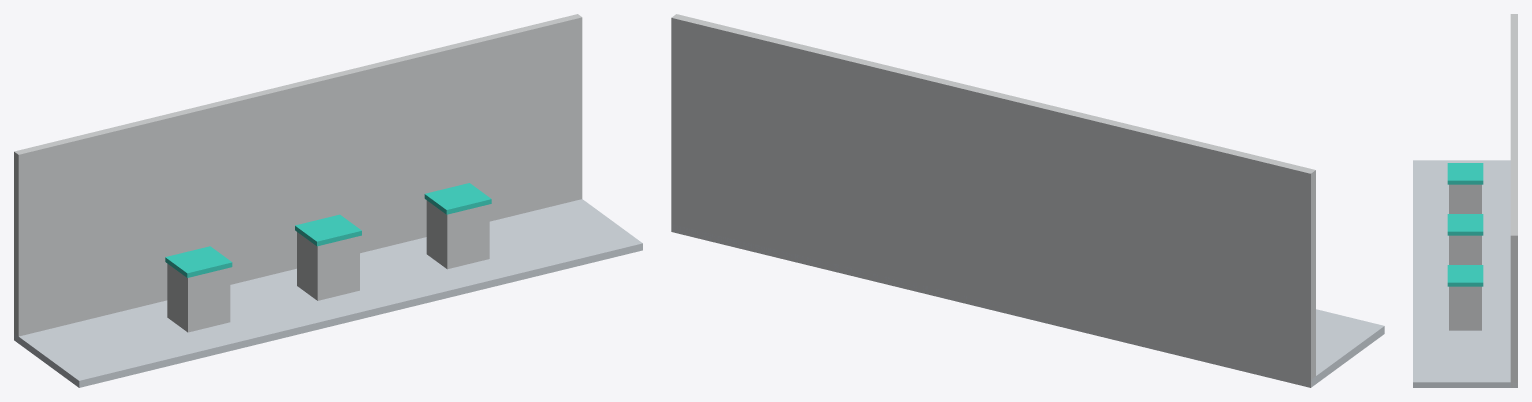
3 views of the same model, side by side, from view 1: azimuth 30°, elevation 25°; view 2: azimuth 150°, elevation 25°; view 3: azimuth 270°, elevation 25° (orthographic). The views are drawn at different scales.
Visible parts, largest first — view 1: Exhibition Booth Concept; view 2: Exhibition Booth Concept; view 3: Exhibition Booth Concept.
Part boxes in pixels (x1,y1,x2,y2): Exhibition Booth Concept: (14, 14, 642, 387); Exhibition Booth Concept: (671, 14, 1384, 387); Exhibition Booth Concept: (1413, 14, 1517, 387).
Bounding box in the file's own units: 10 × 3.2 × 2.
